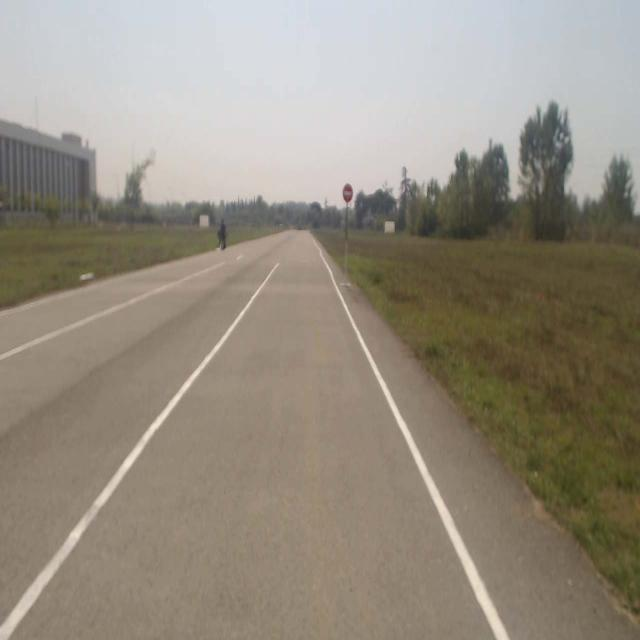girisyok: (343, 184, 352, 202)
